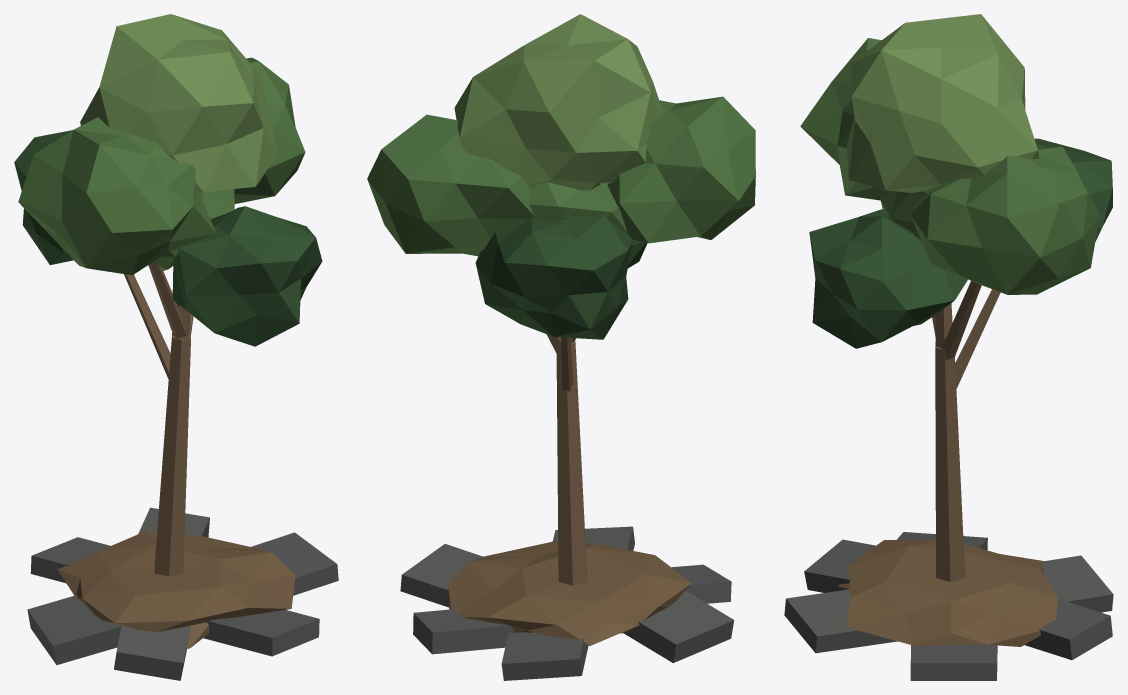
Rendered from sapling_city.glb.
3 views of the same model, side by side, from view 1: azimuth 30°, elevation 25°; view 2: azimuth 150°, elevation 25°; view 3: azimuth 270°, elevation 25° (orthographic).
Parts seen in each view (by area): view 1: sapling_city; view 2: sapling_city; view 3: sapling_city.
Boxes of the visible parts, <box> form: sapling_city: <box>14,14,338,680</box>; sapling_city: <box>367,14,755,680</box>; sapling_city: <box>784,14,1113,680</box>.
Bounding box in the file's own units: 1.19 × 2.07 × 1.05.
Materials: 1 (1 with a texture image).
